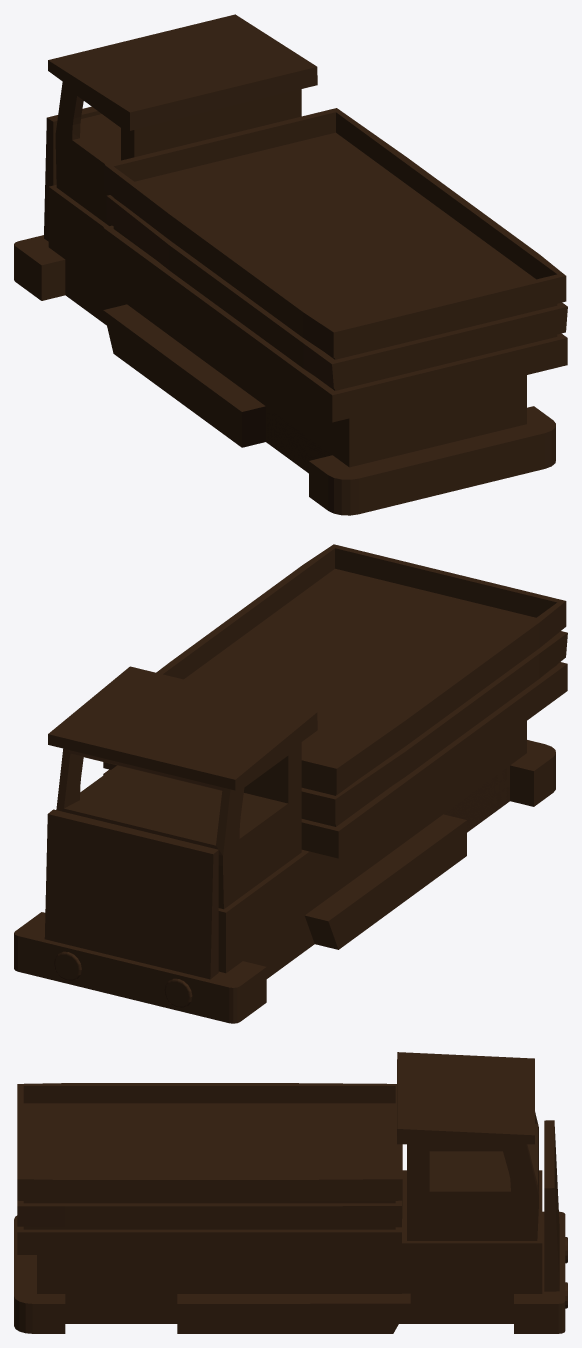
File: 1camion-sinrueda.glb
3 views of the same model, one above another, from view 1: azimuth 30°, elevation 25°; view 2: azimuth 150°, elevation 25°; view 3: azimuth 270°, elevation 25° (orthographic). The views are drawn at different scales.
Parts seen in each view (by area): view 1: truck; view 2: truck; view 3: truck.
Part boxes in pixels (box(x1,y1,x2,y2)): truck: box(14, 14, 567, 515); truck: box(14, 544, 567, 1023); truck: box(14, 1052, 567, 1333).
Bounding box in the file's own units: 0.645 × 0.6121 × 1.56.
